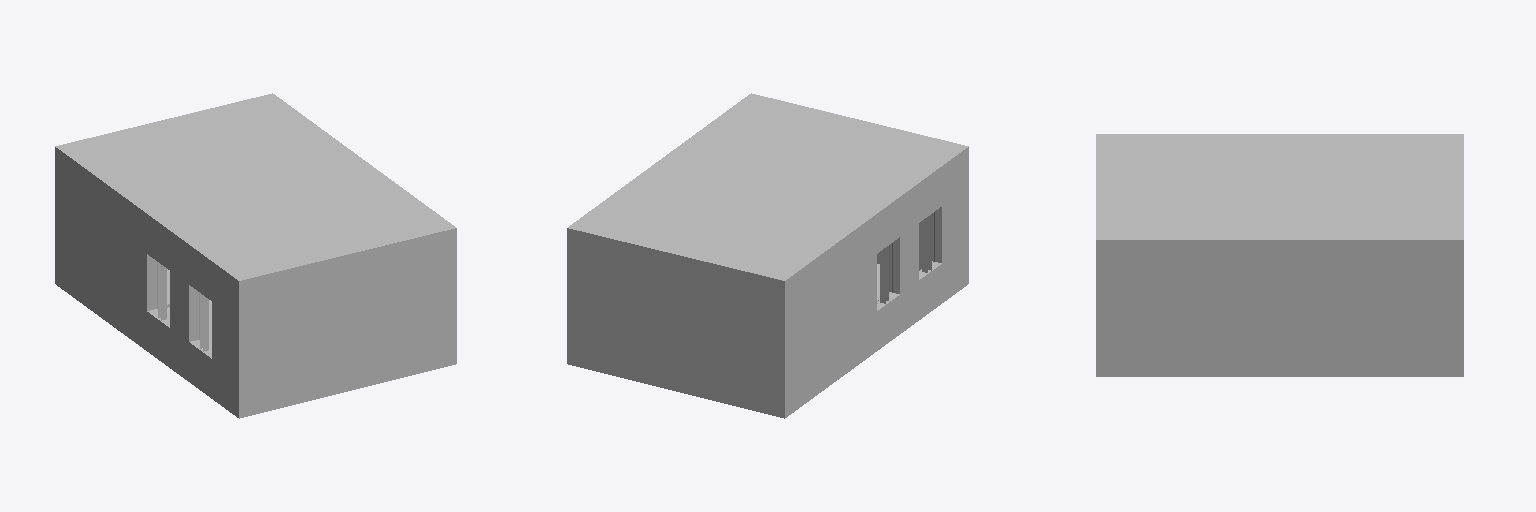
Rendered from room.obj.
3 renders of one model, left to right at view 1: azimuth 30°, elevation 25°; view 2: azimuth 150°, elevation 25°; view 3: azimuth 270°, elevation 25°, orthographic.
Bounding box in the file's own units: 5.11 × 3.08 × 7.47.